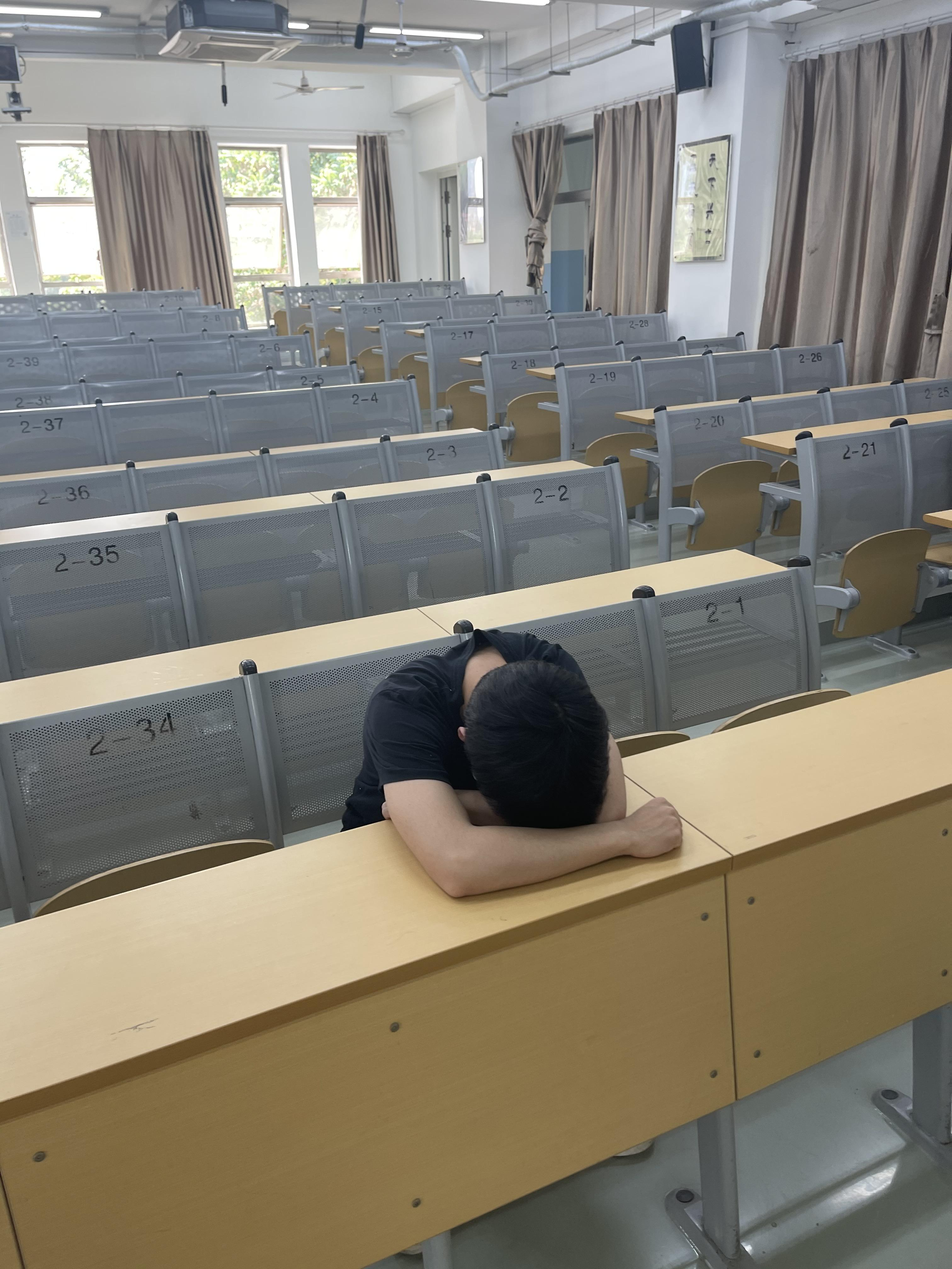sleep: (353, 625, 689, 896)
